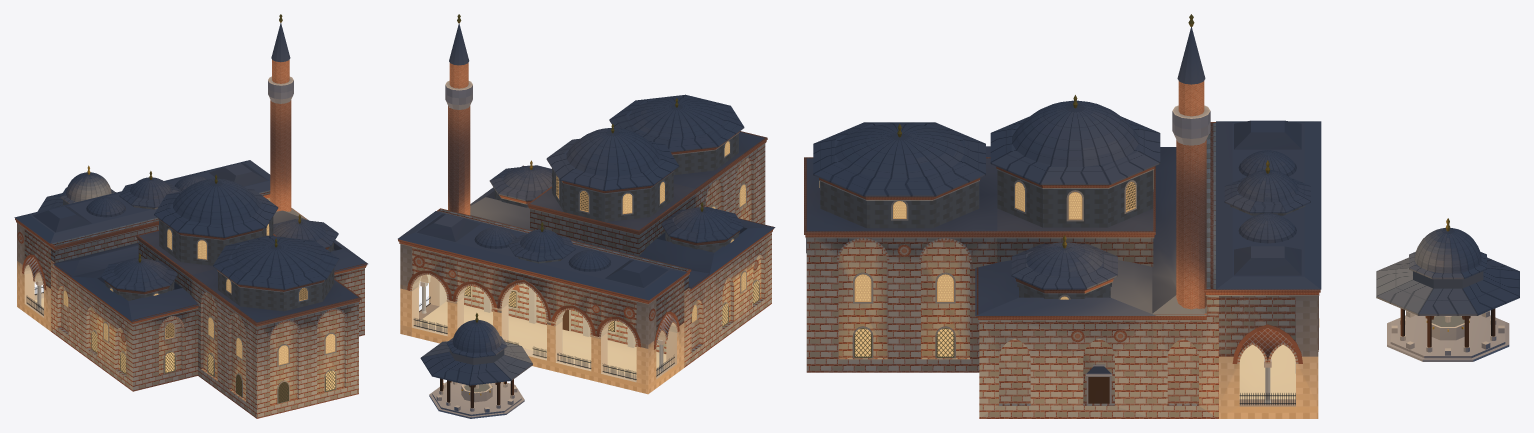
The model's file is orhan-bey-camii_v07_night.glb.
3 views of the same model, side by side, from view 1: azimuth 30°, elevation 25°; view 2: azimuth 150°, elevation 25°; view 3: azimuth 270°, elevation 25° (orthographic). The views are drawn at different scales.
Visible parts, largest first — view 1: Cami_Govde, Cami_Mihrap, Kubbe_Mihrap, Kubbe_Ana, Kubbe_SonCemaat, Minare_1, Kubbe_Tabhane_B, Cami_SonCemaat, Sadirvan, Kubbe_Tabhane_D, Revak_Cephe; view 2: Cami_Govde, Cami_SonCemaat, Kubbe_SonCemaat, Kubbe_Ana, Sadirvan, Kubbe_Mihrap, Cami_Mihrap, Minare_1, Revak_Cephe, Kubbe_Tabhane_B, Kubbe_Tabhane_D, Revak_Kemerler; view 3: Cami_Govde, Cami_Mihrap, Kubbe_SonCemaat, Kubbe_Ana, Kubbe_Mihrap, Sadirvan, Cami_SonCemaat, Minare_1, Kubbe_Tabhane_D, Revak_Cephe.
Part boxes in pixels (x1,y1,x2,y2): Cami_Govde: [15, 171, 367, 403]; Cami_Mihrap: [191, 269, 358, 418]; Kubbe_Mihrap: [213, 235, 339, 311]; Kubbe_Ana: [154, 178, 278, 265]; Kubbe_SonCemaat: [14, 160, 270, 243]; Minare_1: [268, 14, 293, 211]; Kubbe_Tabhane_B: [101, 258, 177, 300]; Cami_SonCemaat: [17, 223, 50, 331]; Sadirvan: [37, 165, 116, 211]; Kubbe_Tabhane_D: [273, 219, 338, 251]; Revak_Cephe: [22, 254, 46, 315]; Cami_Govde: [398, 98, 775, 375]; Cami_SonCemaat: [400, 244, 684, 394]; Kubbe_SonCemaat: [398, 211, 686, 300]; Kubbe_Ana: [546, 128, 679, 221]; Sadirvan: [420, 313, 532, 418]; Kubbe_Mihrap: [609, 94, 744, 174]; Cami_Mihrap: [673, 132, 765, 224]; Minare_1: [445, 14, 472, 215]; Revak_Cephe: [407, 270, 679, 380]; Kubbe_Tabhane_B: [661, 207, 743, 252]; Kubbe_Tabhane_D: [489, 165, 551, 207]; Revak_Kemerler: [484, 287, 635, 353]; Cami_Govde: [804, 95, 1320, 418]; Cami_Mihrap: [806, 158, 997, 372]; Kubbe_SonCemaat: [1216, 120, 1321, 289]; Kubbe_Ana: [990, 100, 1160, 227]; Kubbe_Mihrap: [813, 122, 985, 228]; Sadirvan: [1376, 218, 1519, 361]; Cami_SonCemaat: [1219, 296, 1318, 418]; Minare_1: [1172, 14, 1210, 309]; Kubbe_Tabhane_D: [1011, 242, 1117, 298]; Revak_Cephe: [1232, 296, 1319, 404].
Bounding box in the file's own units: 26.2 × 28.65 × 46.86.
Materials: 23 (14 with a texture image).
